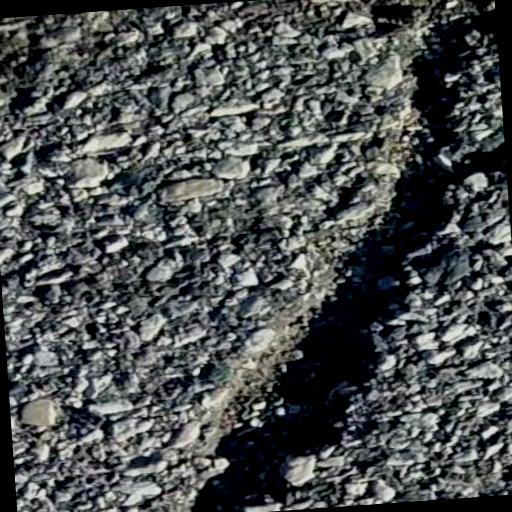spalling: (132, 0, 497, 504)
